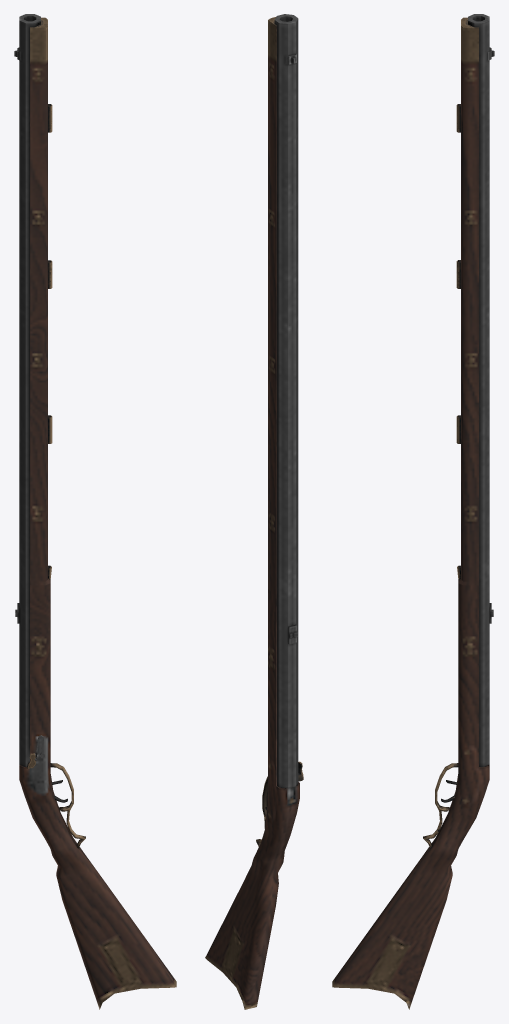
The model's file is KentuckyRifle.fbx.
3 renders of one model, left to right at view 1: azimuth 90°, elevation 25°; view 2: azimuth 210°, elevation 25°; view 3: azimuth 270°, elevation 25°, orthographic. The views are drawn at different scales.
Parts seen in each view (by area): view 1: KentuckyRifle; view 2: KentuckyRifle; view 3: KentuckyRifle.
Boxes of the visible parts, left/top/right/bottom form: KentuckyRifle: left=14, top=14, right=176, bottom=1009; KentuckyRifle: left=205, top=14, right=303, bottom=1009; KentuckyRifle: left=332, top=14, right=494, bottom=1009.
Size of the model in its own units: 0.0264 by 0.9686 by 0.1441.
